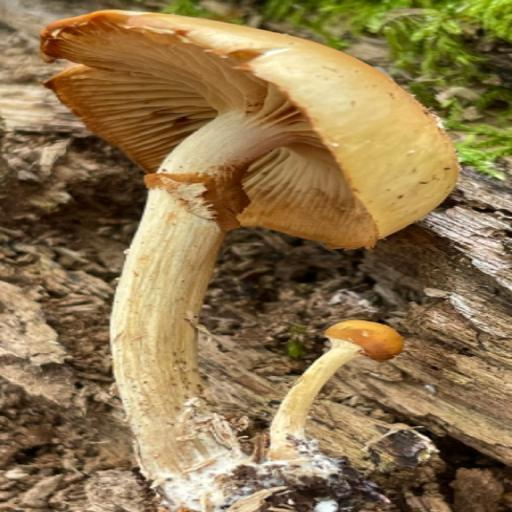mushroom: (29, 10, 450, 381)
